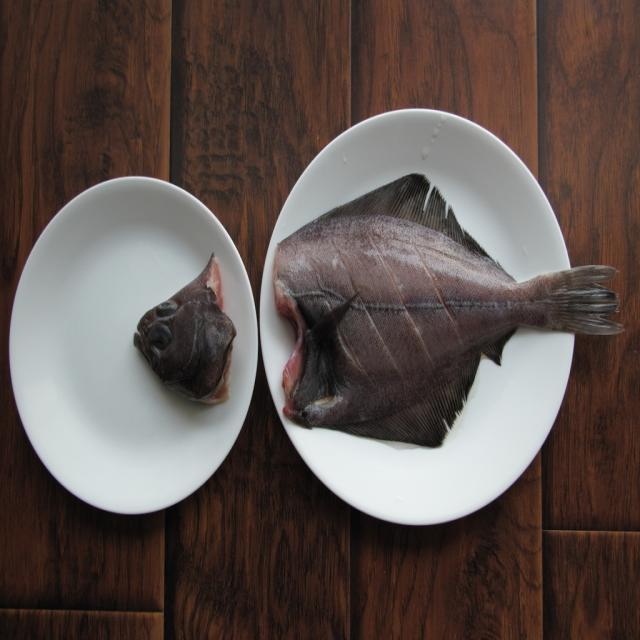ceramic plate: (254, 70, 597, 518), (6, 150, 267, 507)
